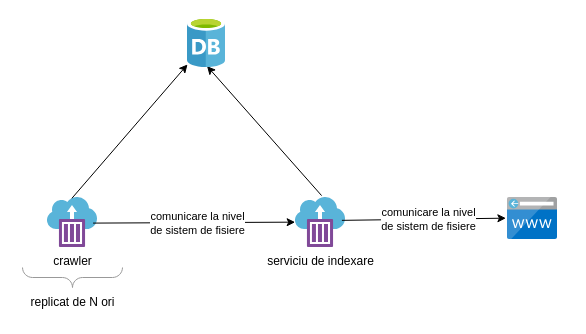
This 586x334 diagram has some shape labels left out. The centre of each missing label's shape, as x and y in pixels:
Bază de date Mongo pentru robots.txt parsat: [206,42]
front-end web pentru search: [532,218]
